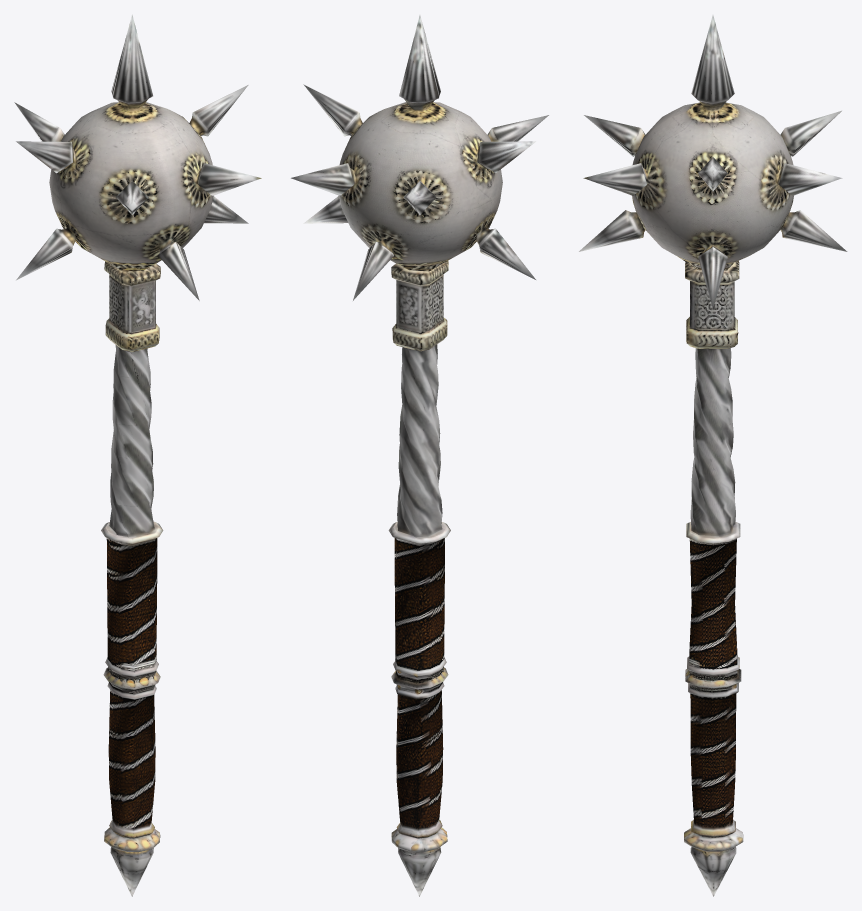
The model's file is w_mace_t2.glb.
The picture shows the model from 3 angles, left to right: view 1: azimuth 30°, elevation 25°; view 2: azimuth 150°, elevation 25°; view 3: azimuth 270°, elevation 25°; orthographic projection.
Visible parts, largest first — view 1: Mace:0; view 2: Mace:0; view 3: Mace:0.
Part boxes in pixels (x1=…): Mace:0: x1=14, y1=14, x2=261, y2=896; Mace:0: x1=291, y1=15, x2=548, y2=896; Mace:0: x1=579, y1=15, x2=847, y2=896.
Size of the model in its own units: 14.56 by 52.63 by 14.56.
Materials: 1 (1 with a texture image).
